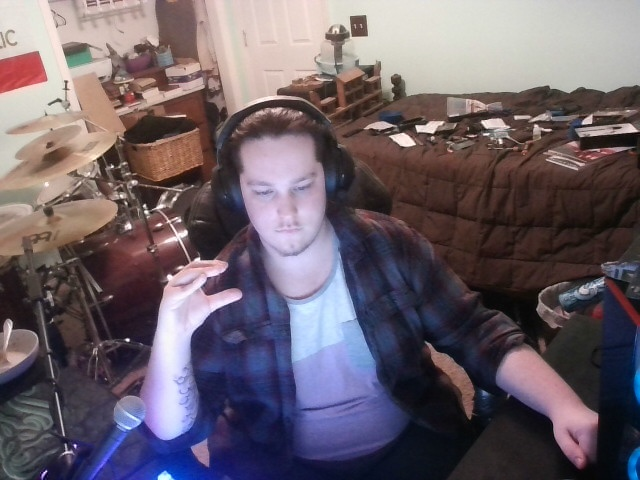drink: (139, 249, 258, 341)
